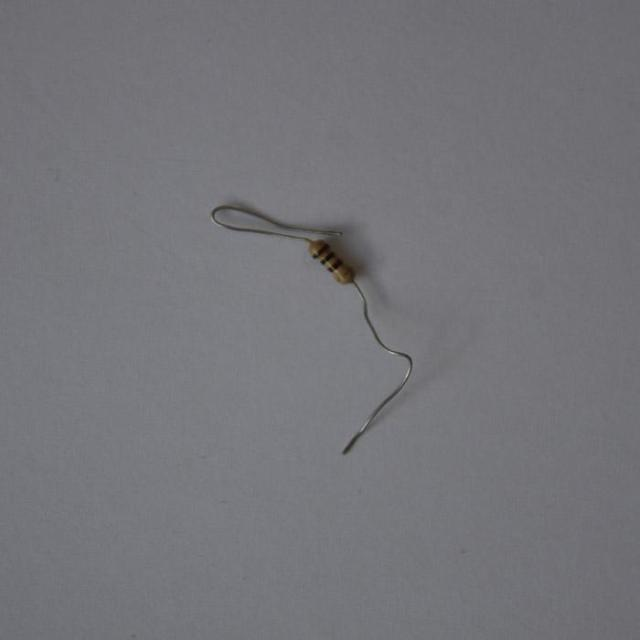capacitor: (301, 236, 360, 291)
